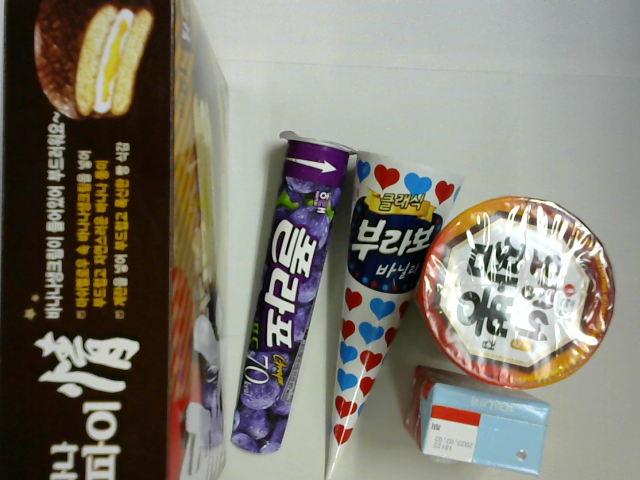Bravo_Cone_(Banila)_CVS: (326, 148, 465, 480)
Choco_Pie_Banana: (1, 3, 226, 480)
Ojjam: (419, 197, 615, 380)
Picnic_Apple: (406, 365, 553, 475)
Polapo_Grape: (232, 122, 355, 457)
